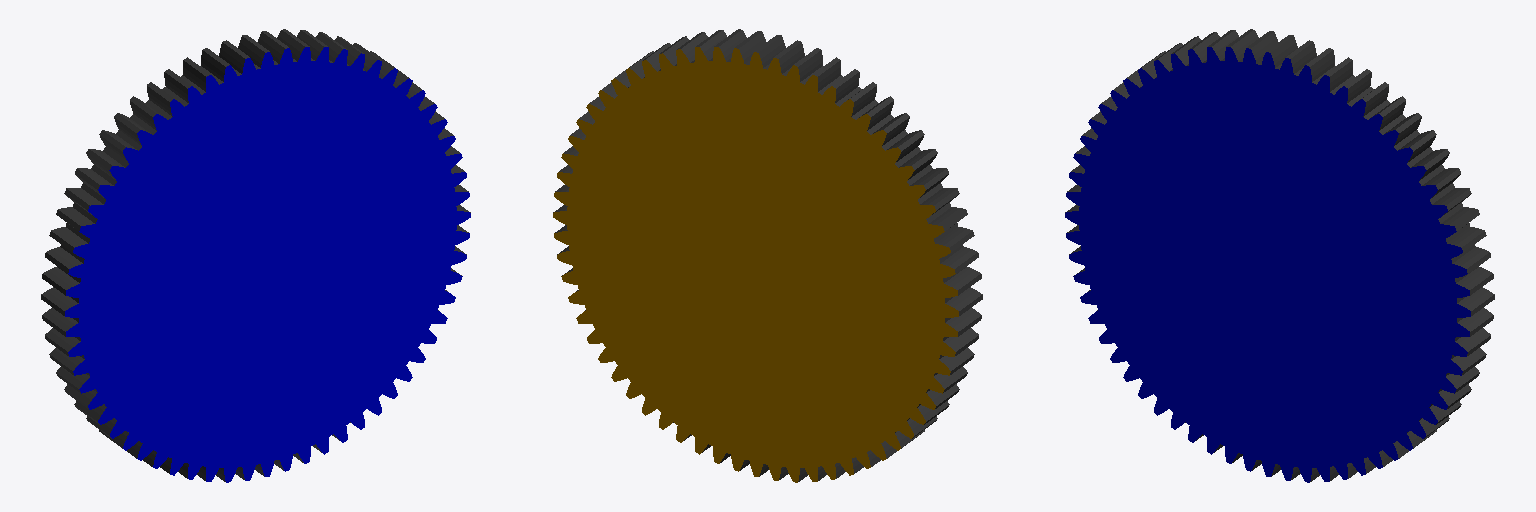
The model's file is gear64a.obj.
3 renders of one model, left to right at view 1: azimuth 30°, elevation 25°; view 2: azimuth 150°, elevation 25°; view 3: azimuth 330°, elevation 25°, orthographic.
Visible parts, largest first — view 1: mesh01; view 2: mesh01; view 3: mesh01.
Part boxes in pixels (x1,y1,x2,y2): mesh01: (41, 29, 470, 482); mesh01: (553, 29, 982, 482); mesh01: (1065, 29, 1494, 482).
Size of the model in its own units: 20 by 20 by 2.